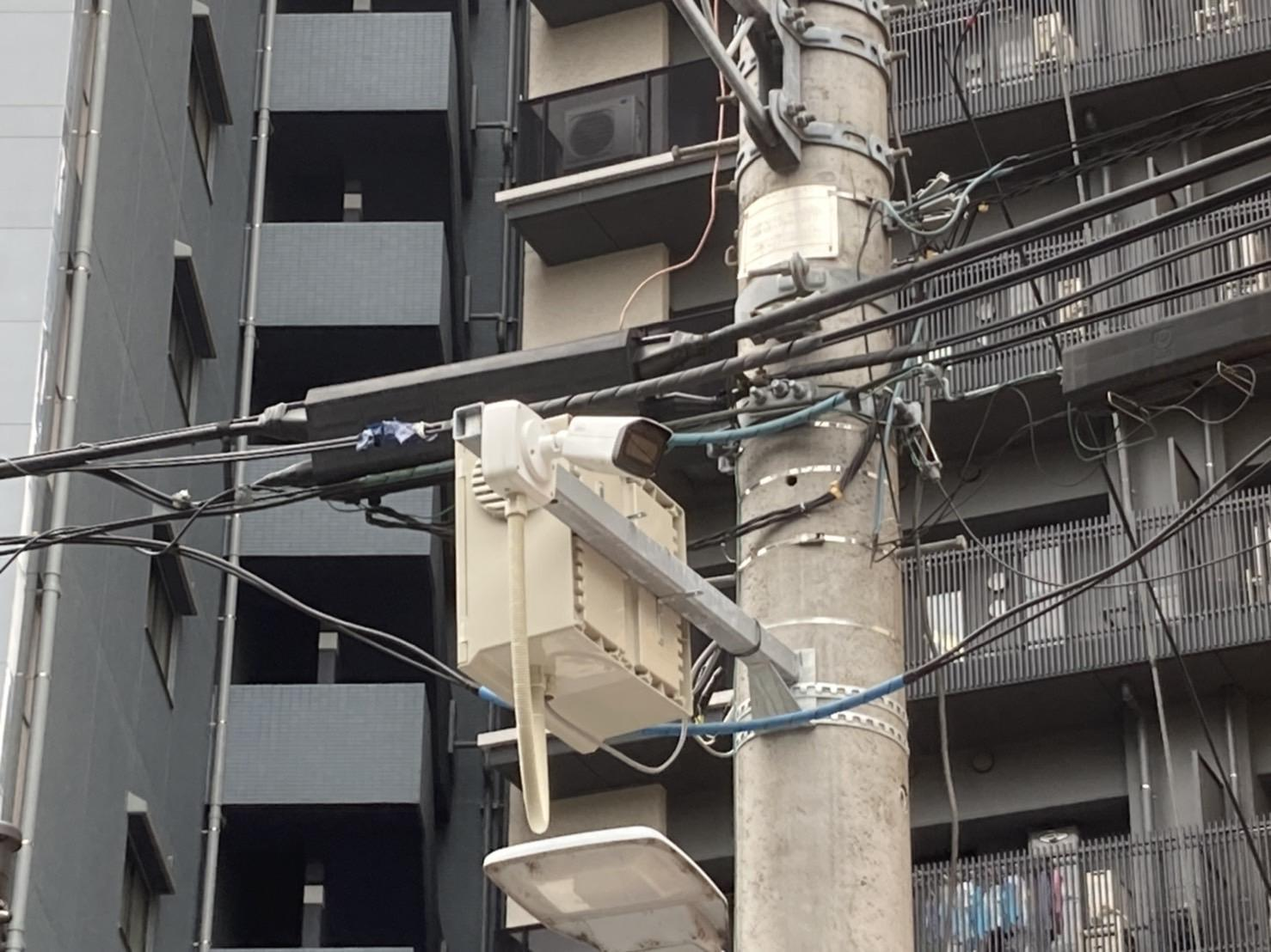tutu: (554, 402, 681, 479)
